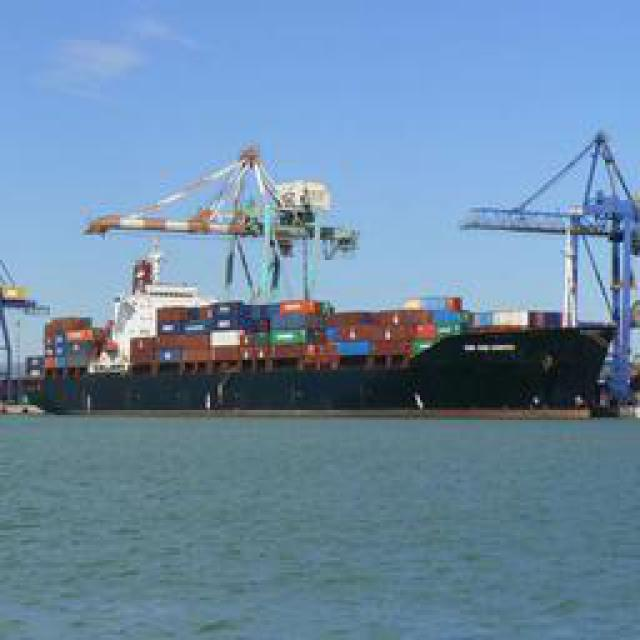Ship: (30, 131, 618, 414)
